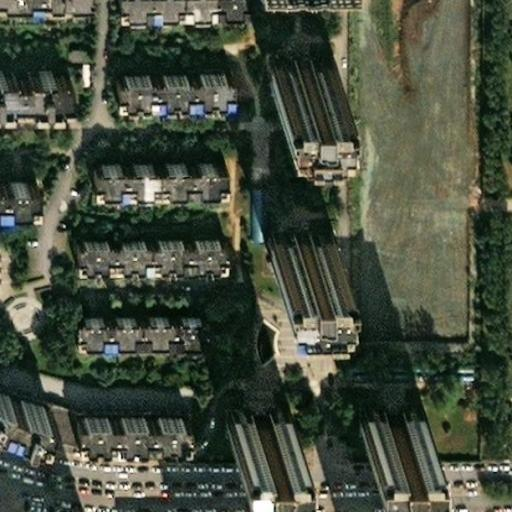building: (56, 297, 190, 328), (58, 222, 212, 247), (77, 146, 209, 170), (59, 400, 169, 427), (0, 72, 73, 112), (98, 56, 213, 81), (352, 394, 414, 437), (218, 395, 280, 437), (260, 43, 322, 77), (258, 222, 320, 255), (0, 177, 35, 211)
